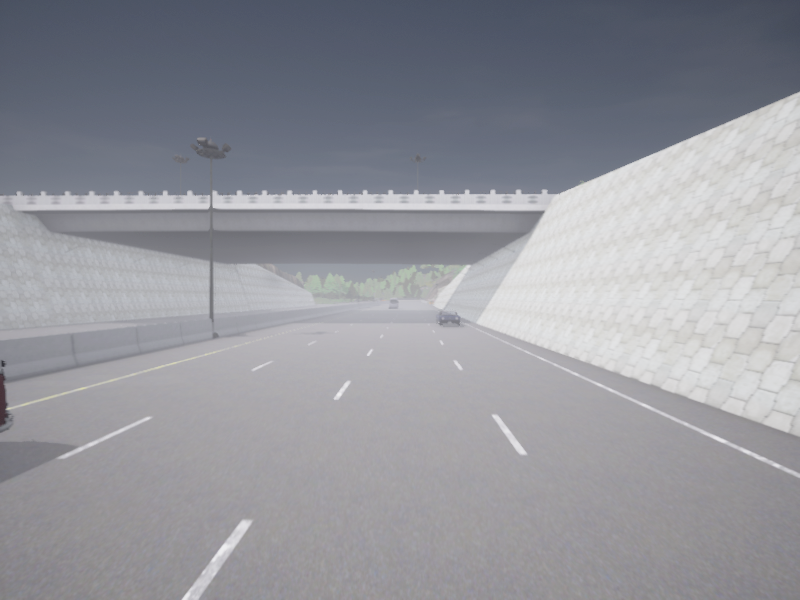vehicle: (0, 359, 14, 432), (436, 310, 460, 324), (389, 298, 398, 308)
